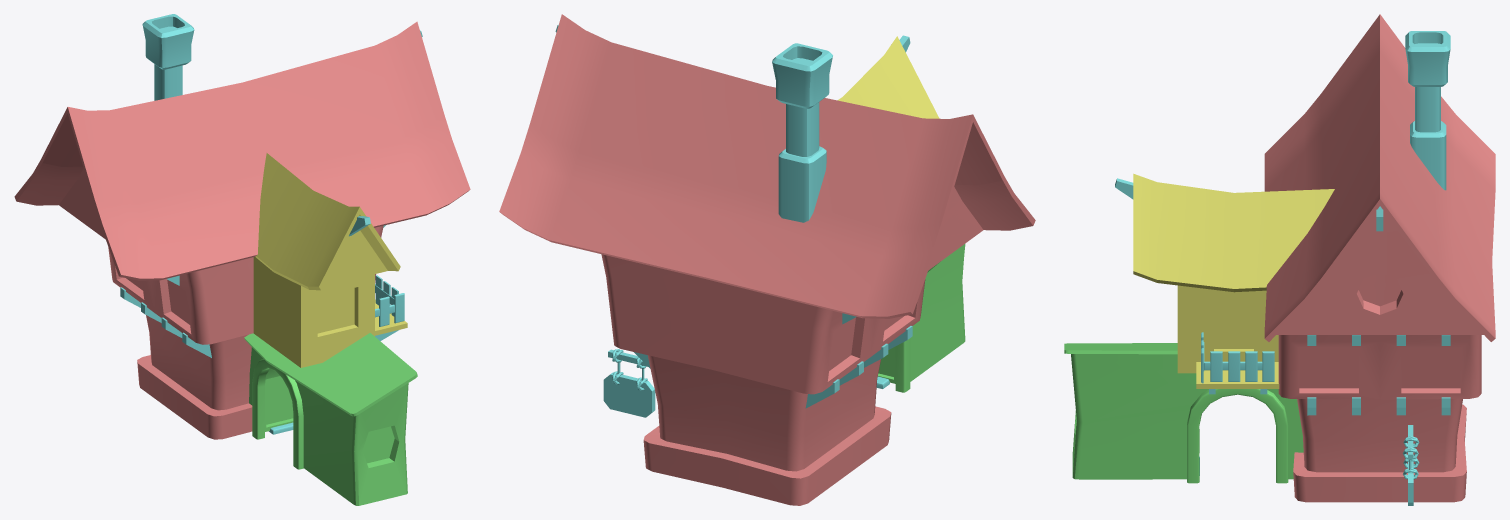
File: stylized_house.fbx
The picture shows the model from 3 angles, left to right: view 1: azimuth 30°, elevation 25°; view 2: azimuth 150°, elevation 25°; view 3: azimuth 270°, elevation 25°; orthographic projection. The views are drawn at different scales.
Parts seen in each view (by area): view 1: cartoon_house_lp18, cartoon_house_lp1, cartoon_house_lp17, cartoon_house_lp3, cartoon_house_lp5, cartoon_house_lp6, cartoon_house_lp19; view 2: cartoon_house_lp18, cartoon_house_lp17, cartoon_house_lp6, cartoon_house_lp1, cartoon_house_lp3, cartoon_house_lp11, cartoon_house_lp19; view 3: cartoon_house_lp18, cartoon_house_lp17, cartoon_house_lp3, cartoon_house_lp1, cartoon_house_lp5, cartoon_house_lp6, cartoon_house_lp19, cartoon_house_lp4.
Boxes of the visible parts, x1,y1,x2,y2 form: cartoon_house_lp18: [14, 21, 470, 280]; cartoon_house_lp1: [244, 333, 417, 505]; cartoon_house_lp17: [108, 225, 383, 439]; cartoon_house_lp3: [255, 153, 400, 290]; cartoon_house_lp5: [253, 257, 374, 367]; cartoon_house_lp6: [142, 14, 194, 100]; cartoon_house_lp19: [252, 359, 303, 469]; cartoon_house_lp18: [499, 14, 1035, 318]; cartoon_house_lp17: [601, 254, 925, 505]; cartoon_house_lp6: [772, 43, 832, 222]; cartoon_house_lp1: [877, 244, 965, 383]; cartoon_house_lp3: [837, 36, 939, 118]; cartoon_house_lp11: [603, 372, 655, 417]; cartoon_house_lp19: [895, 338, 910, 392]; cartoon_house_lp18: [1264, 14, 1495, 341]; cartoon_house_lp17: [1278, 335, 1481, 502]; cartoon_house_lp3: [1133, 173, 1334, 292]; cartoon_house_lp1: [1064, 343, 1303, 479]; cartoon_house_lp5: [1177, 285, 1278, 373]; cartoon_house_lp6: [1405, 31, 1450, 190]; cartoon_house_lp19: [1187, 389, 1288, 483]; cartoon_house_lp4: [1196, 362, 1279, 388].
Size of the model in its own units: 20.19 by 20.22 by 19.67.
